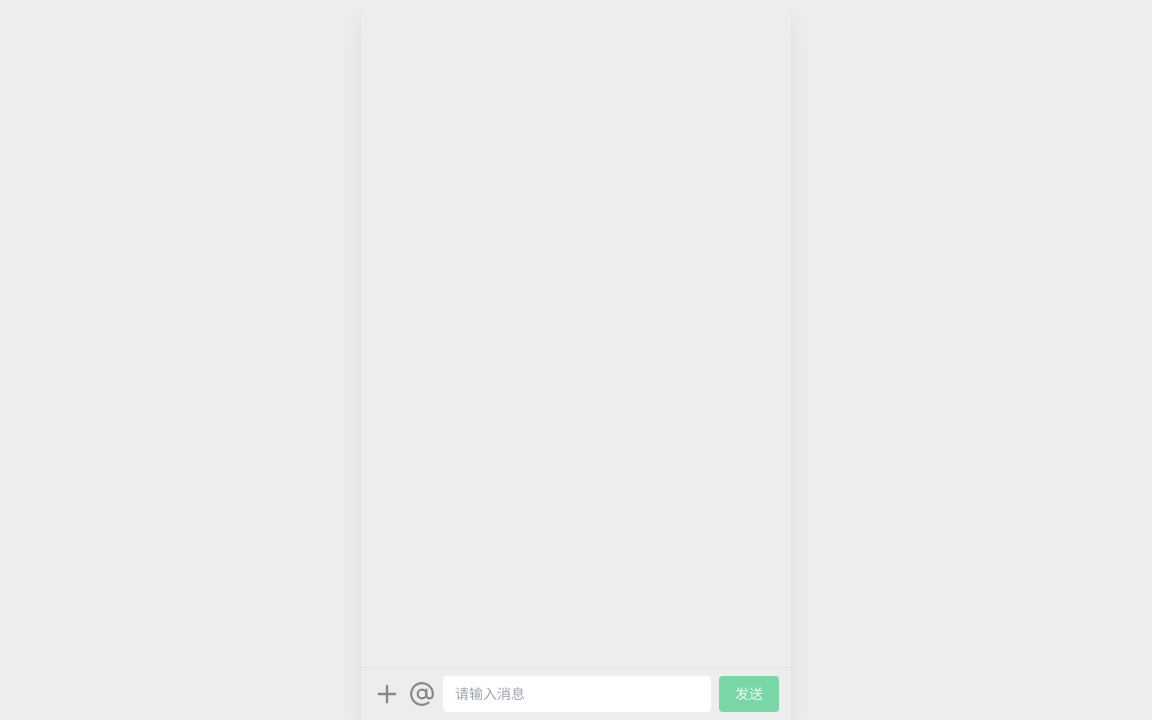
MessageInput @功能 › 选择成员后输入框插入「@名字 」
This screenshot has width=1152, height=720.
Step 1. Click the button with test id "mention-button" → click(422, 694), box x1=409 y1=681 x2=435 y2=707
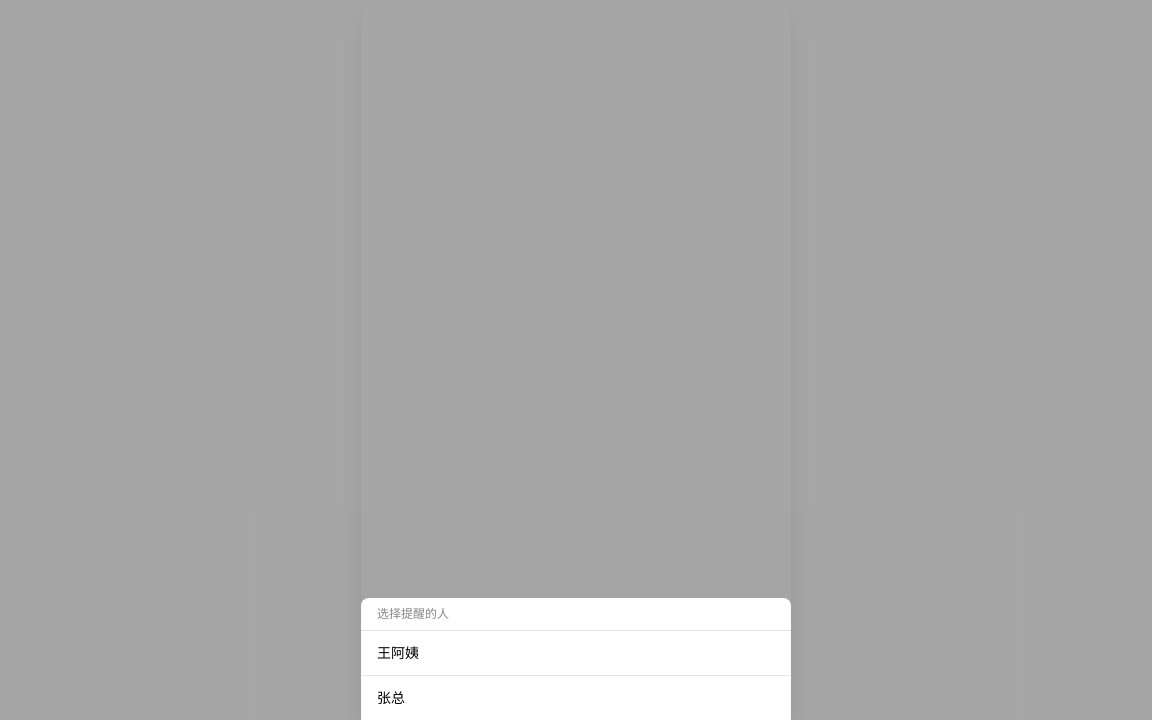
Step 2. Click the button with test id "mention-member-mom" → click(398, 652), box x1=361 y1=631 x2=791 y2=676
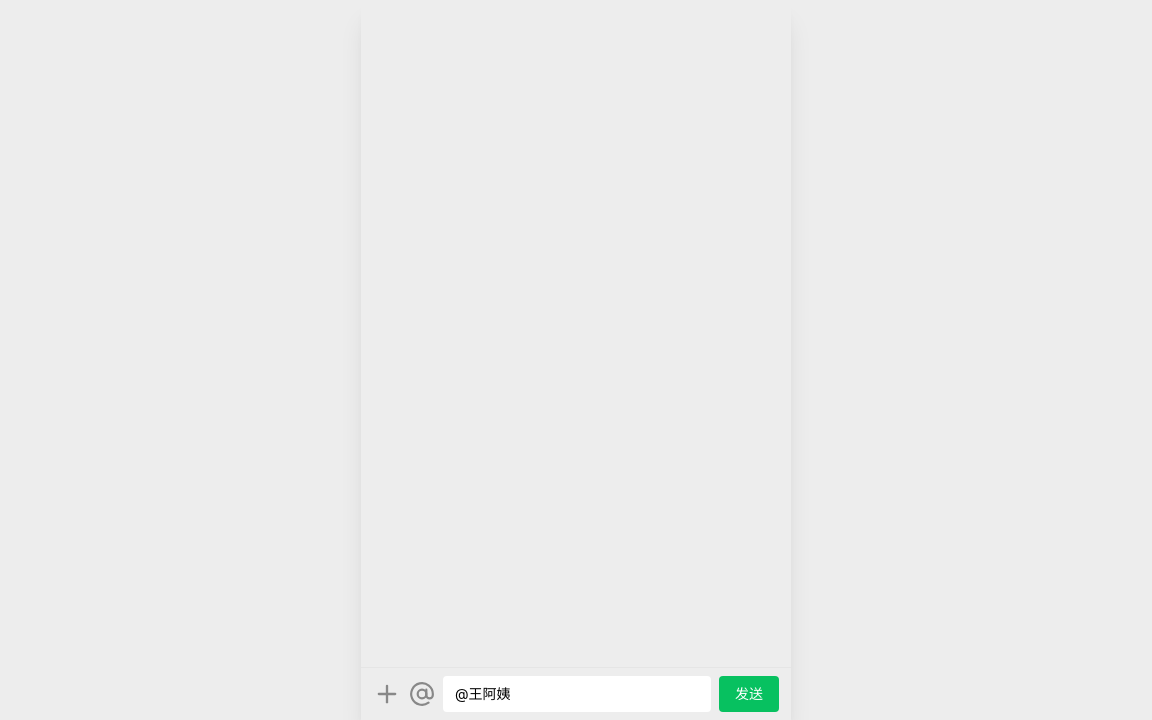
Expected: the field with test id "text-input" holds "@王阿姨 ", x1=443 y1=676 x2=711 y2=712
